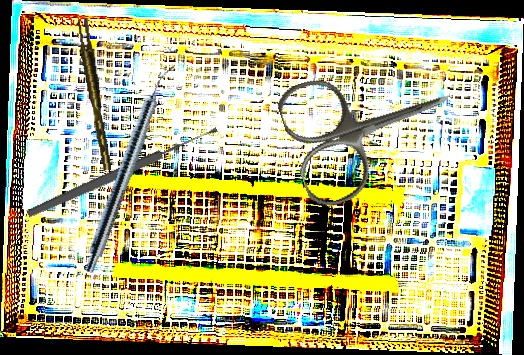Handpiece: (80, 58, 177, 278)
Iris Scissors: (272, 39, 470, 213)
Surgical Spoon: (25, 124, 220, 220)
Tissue Forceps: (76, 17, 112, 172)
